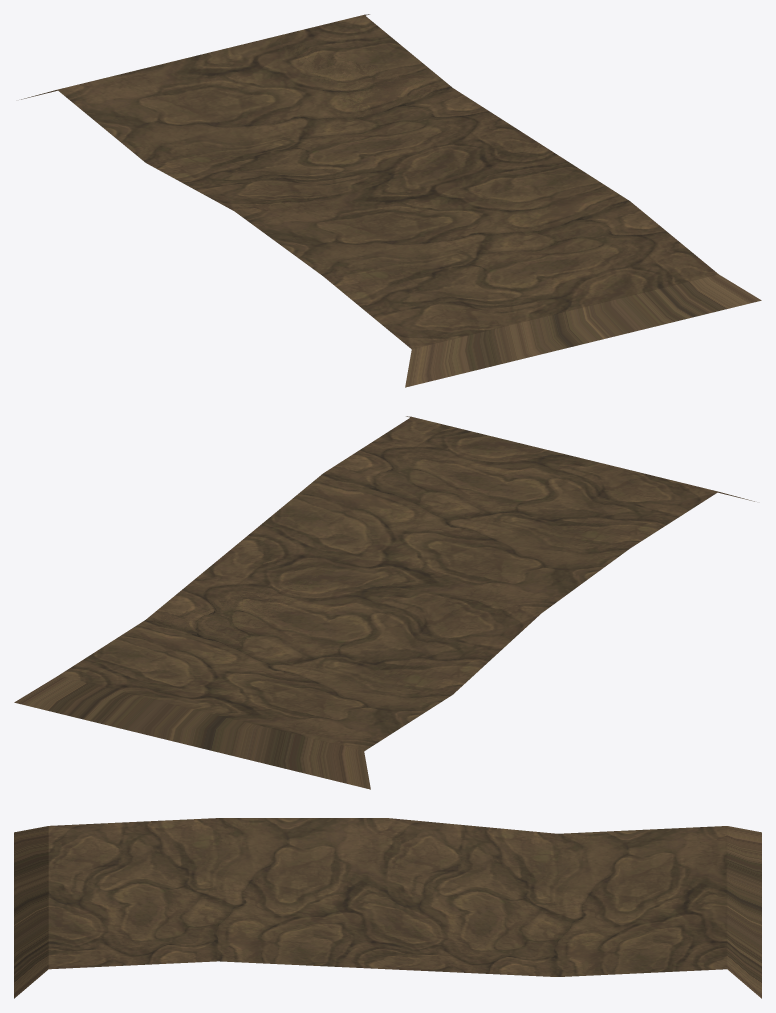
Rendered from cave floor straight.FBX.
3 views of the same model, one above another, from view 1: azimuth 30°, elevation 25°; view 2: azimuth 150°, elevation 25°; view 3: azimuth 270°, elevation 25° (orthographic). The views are drawn at different scales.
Visible parts, largest first — view 1: cave floor straight; view 2: cave floor straight; view 3: cave floor straight.
Part boxes in pixels (x1,y1,x2,y2): cave floor straight: (21,14,761,387); cave floor straight: (14,416,754,789); cave floor straight: (14,818,761,998).
Size of the model in its own units: 23.24 by 1.69 by 44.09.
